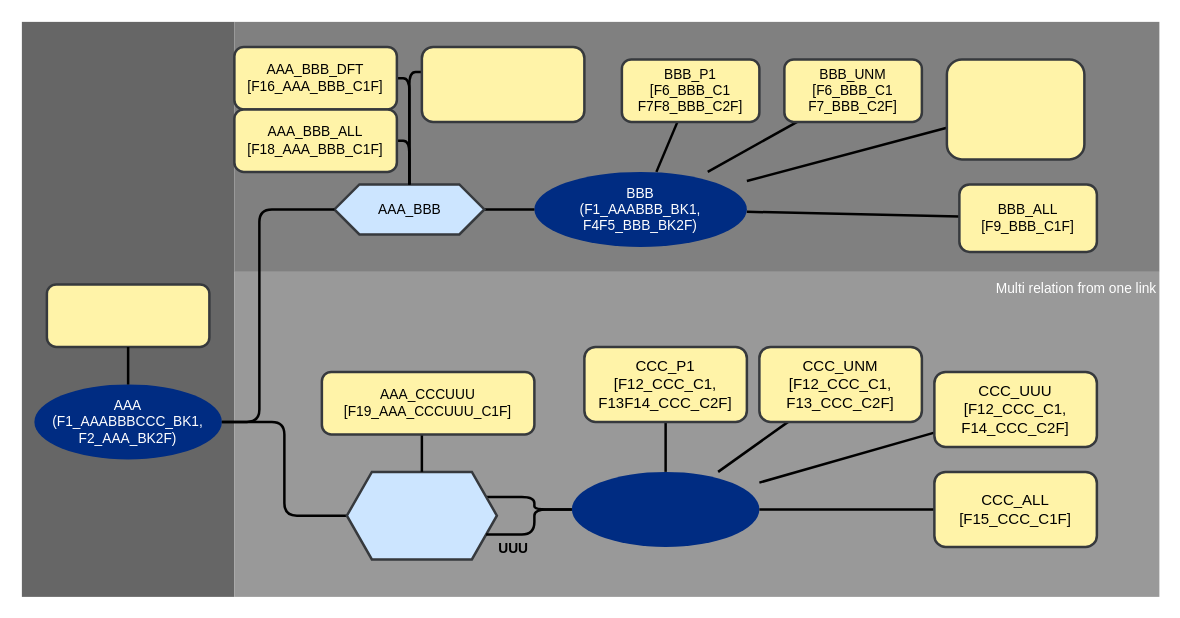
Image size: 1180x618. Some labels were removed from this diagram. Here are the shapes that lost their labels. From the top down, the box of each, then its label:
(420, 45, 585, 122): AAA_BBB_TTT [F17_AAA_BBB_C1F]
(945, 58, 1085, 160): BBB_TTT [F6_BBB_C1 F8_BBB_C2F]
(234, 21, 1159, 271): double esat with one default relation
(21, 21, 234, 596): Universal Load Hub
(45, 282, 210, 348): AAA_P1 [F3_AAA_C1F]
(345, 470, 498, 560): AAA_CCCUUU
(571, 471, 759, 546): CCC_hub (F1_AAABBBCCC_BK1, F10F11_CCC_BK2F)
